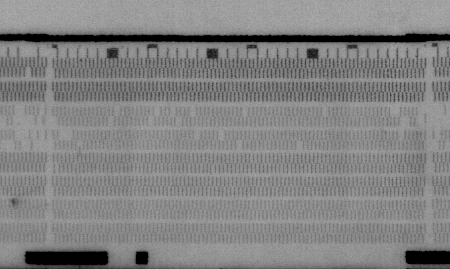Broken hole: (2, 102, 61, 155), (415, 104, 450, 131), (431, 127, 450, 151), (147, 105, 162, 128), (106, 106, 122, 127), (168, 106, 183, 128), (56, 129, 76, 143), (216, 127, 228, 142), (321, 104, 333, 119), (399, 115, 412, 128), (192, 129, 204, 143), (294, 139, 305, 154), (232, 140, 244, 153), (389, 106, 402, 118), (23, 65, 33, 78), (239, 106, 250, 117), (188, 106, 198, 118), (397, 132, 407, 142)
Oblique printing: (73, 141, 86, 157)
